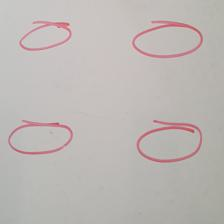protein: (136, 119, 203, 163), (131, 20, 204, 58), (8, 120, 74, 154), (19, 20, 72, 51)
